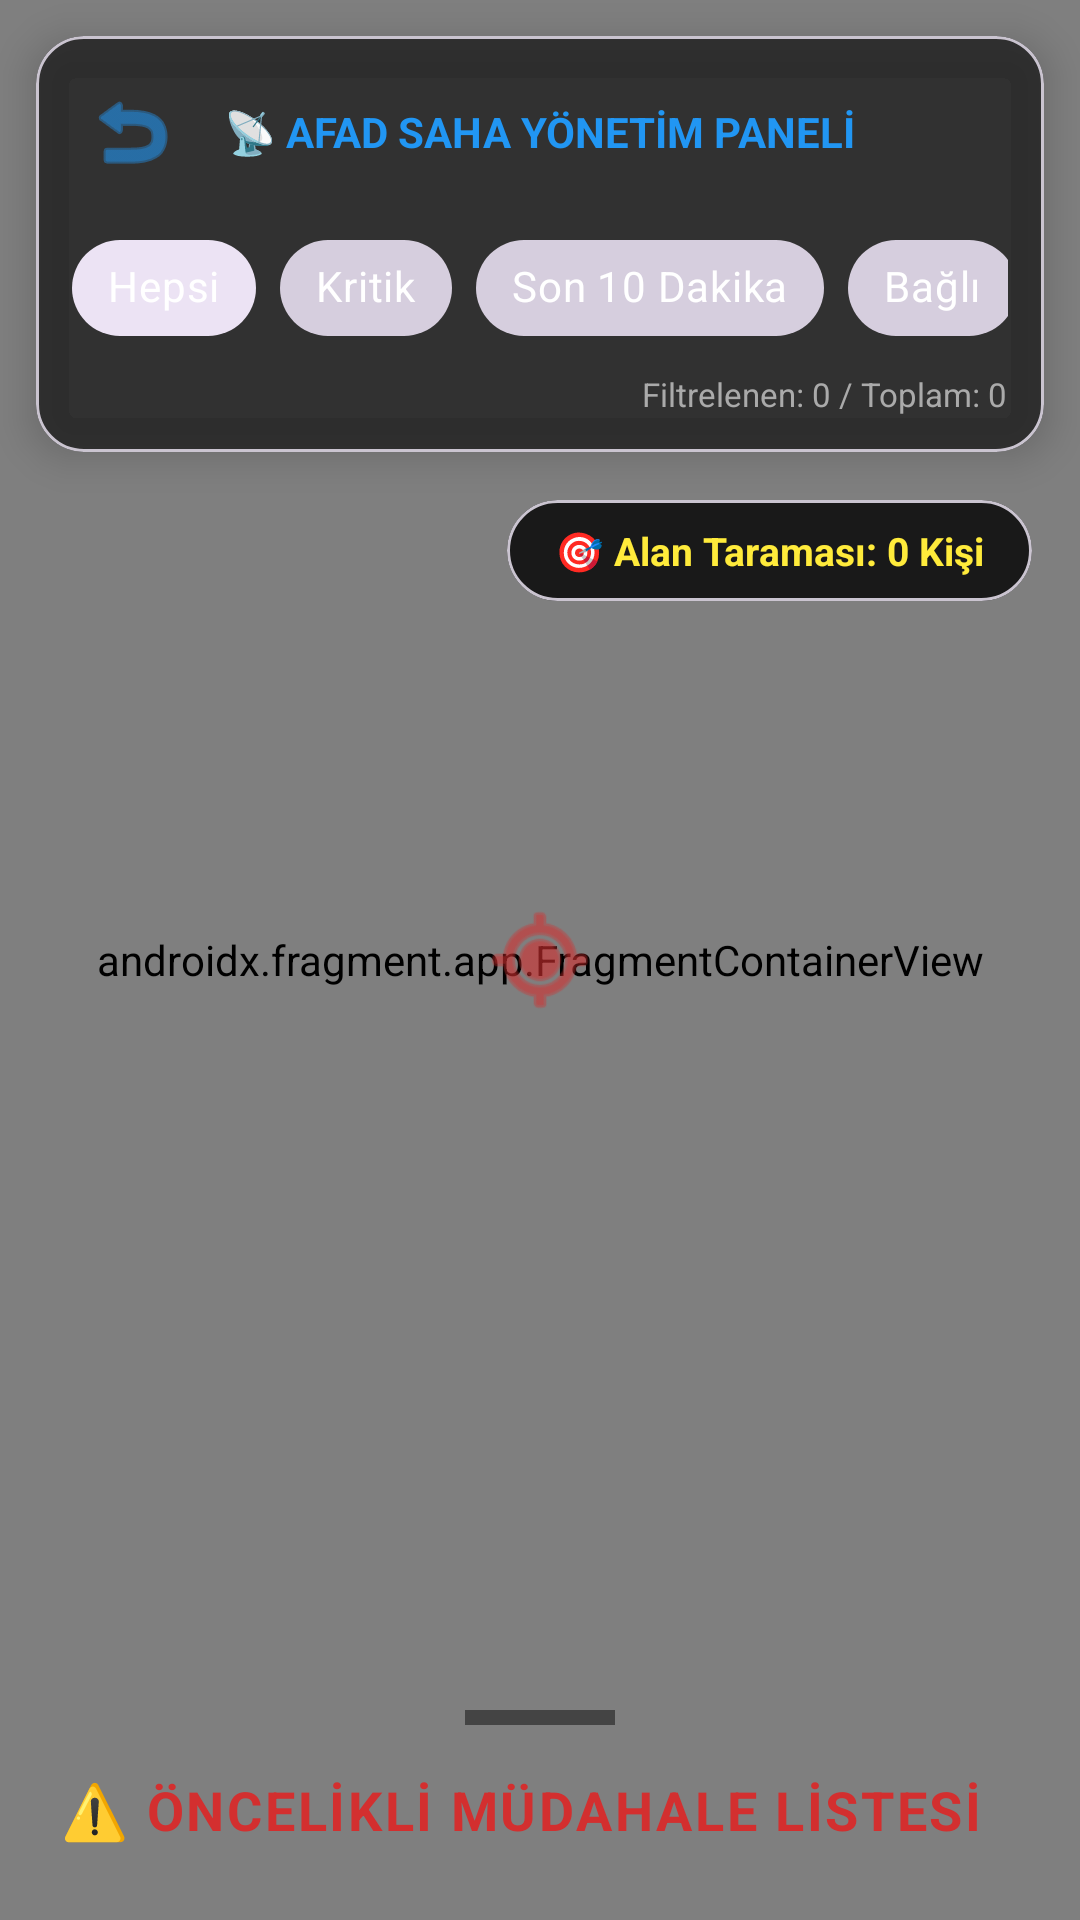

Point at icon controls on the screen. Image size 1080px×1920px, points as (x=x, y=y).
Geri: (x=133, y=132)
